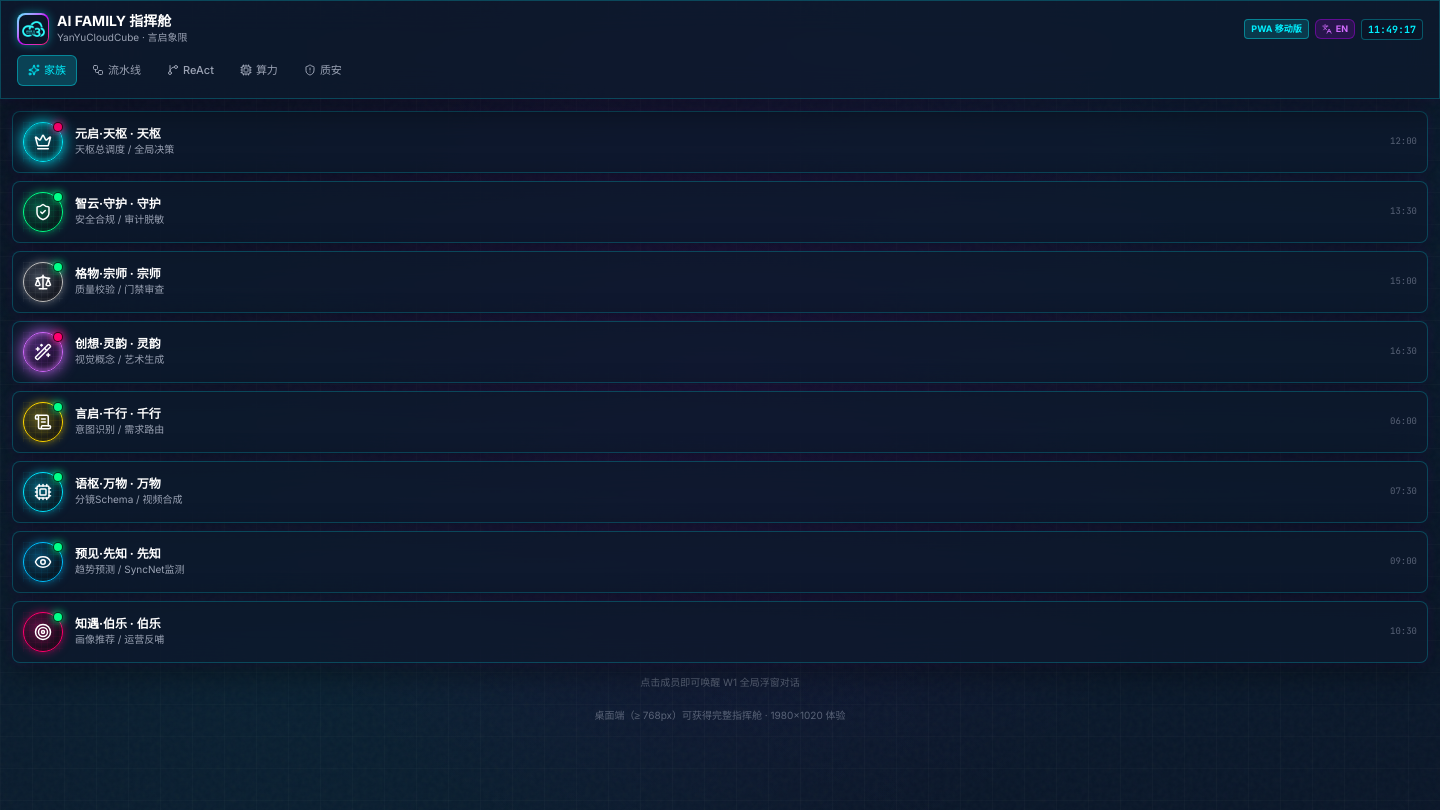
Test: MobileFallback（移动端降级视图） › ReAct Tab：九步闭环（执行中/已完成/待命三态并存）
Click the button "ReAct".
click(190, 70)  # box [156,55,225,86]
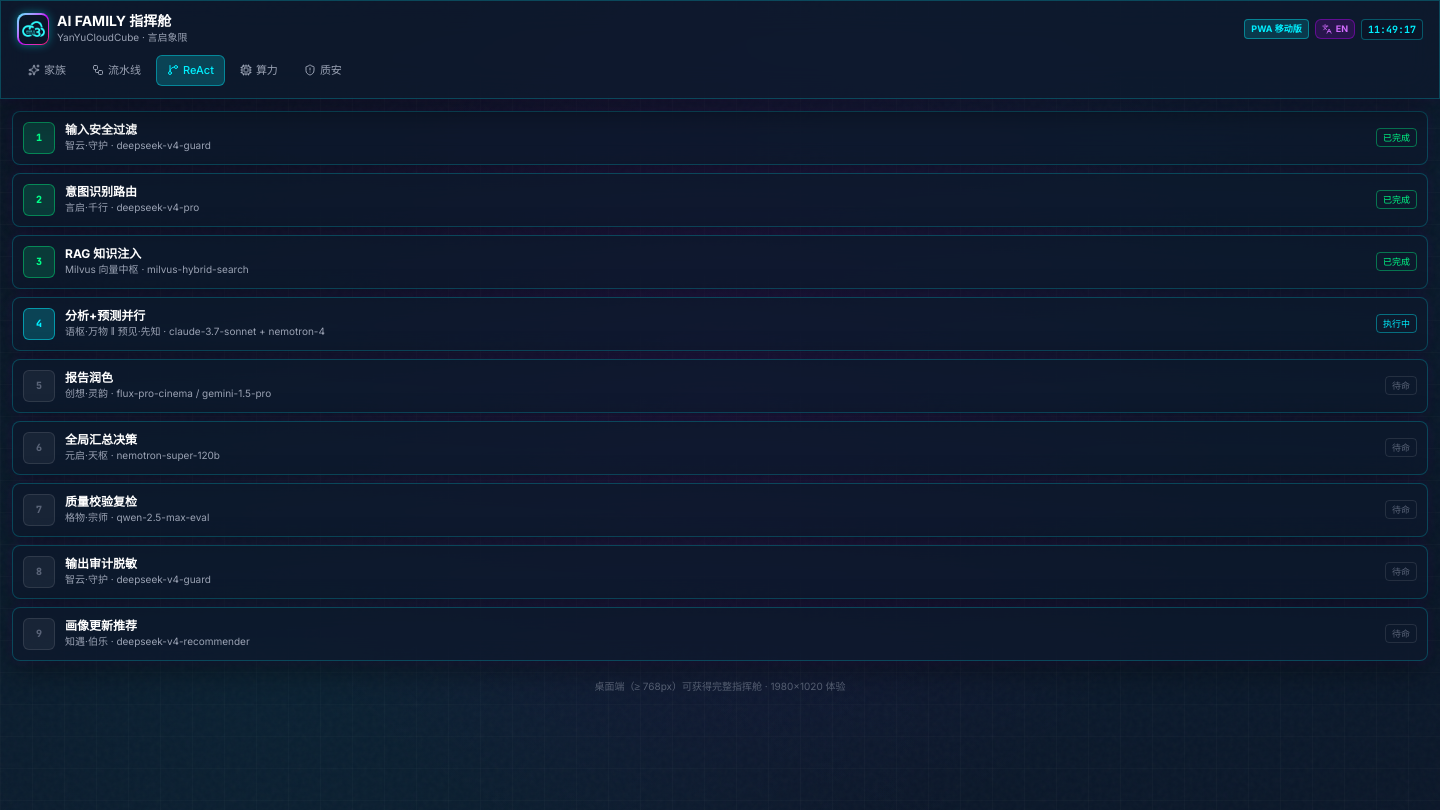
Now the text "执行中" is shown, box [1376,314,1417,333]
Now the text "已完成" is shown 3 times, box [1376,128,1417,147]; [1376,190,1417,209]; [1376,252,1417,271]
Now the text "待命" is shown 5 times, box [1385,376,1417,395]; [1385,438,1417,457]; [1385,500,1417,519]; [1385,562,1417,581]; [1385,624,1417,643]
